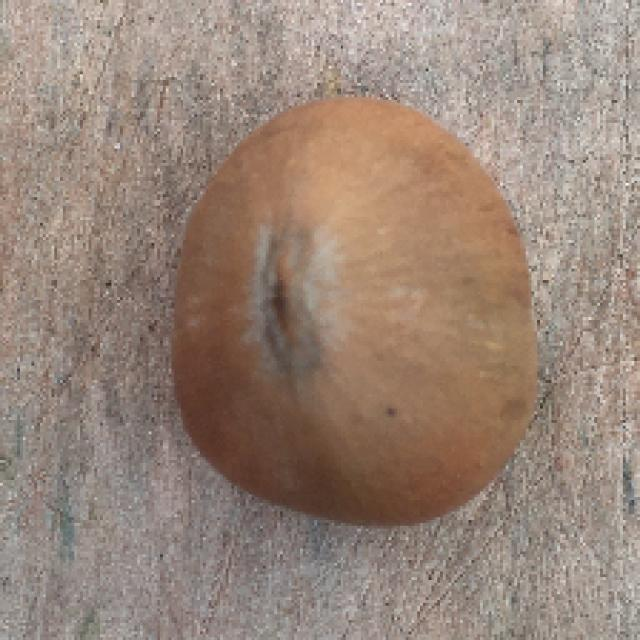DamagedHazelnut: (176, 95, 534, 527)
